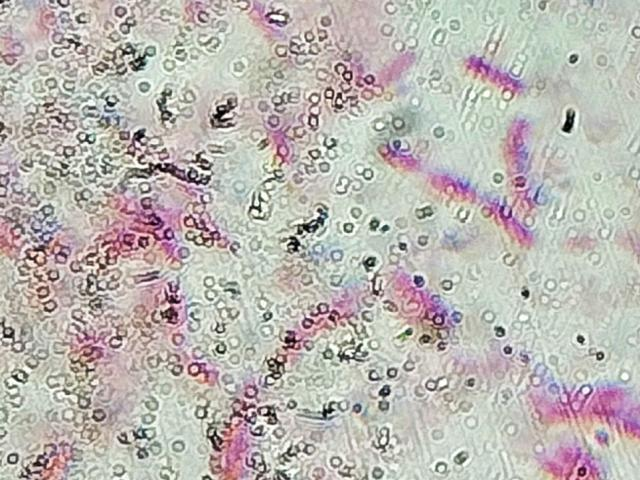E. coli: (388, 146, 469, 199), (535, 382, 631, 424), (376, 267, 438, 315), (208, 410, 244, 480), (502, 109, 535, 182), (466, 50, 521, 93), (485, 199, 538, 242), (529, 440, 585, 479), (289, 299, 346, 335), (376, 50, 417, 89), (268, 119, 298, 163), (378, 258, 379, 267)
